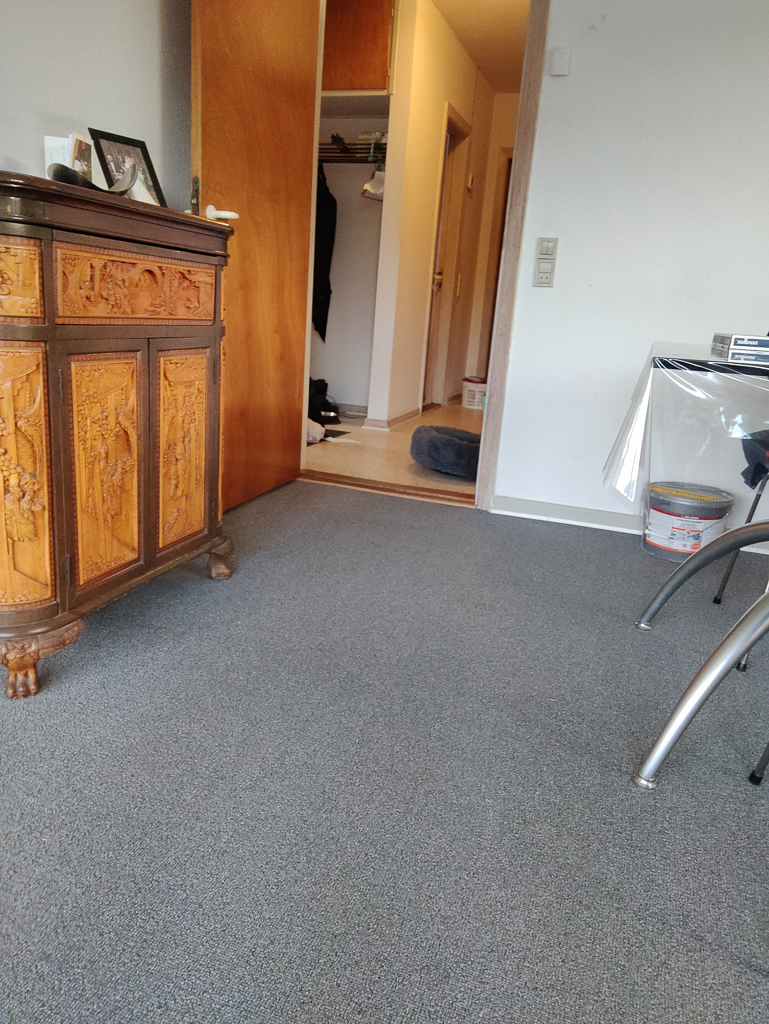Dog: (301, 369, 367, 450)
